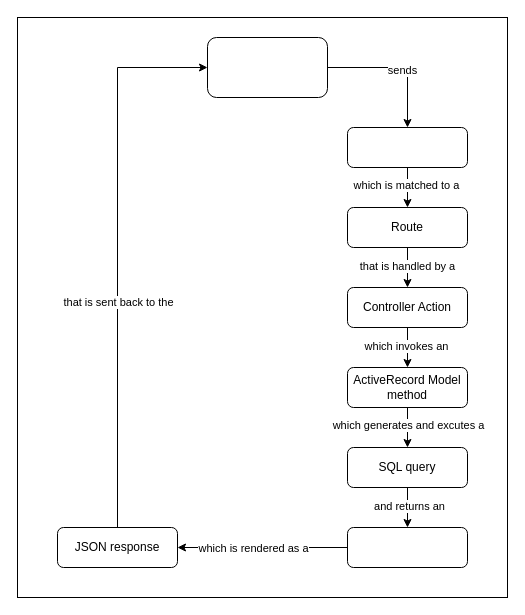
Some shapes in this 525 by 615 pixel diagram are drawn without their labels. Here are the shapes that lost their labels. From the top down, the centre of each, then its label:
At (x=267, y=67): "Client (Browser)".
At (x=407, y=147): "Request".
At (x=407, y=547): "ActiveRecord object (or collection of objects)".
